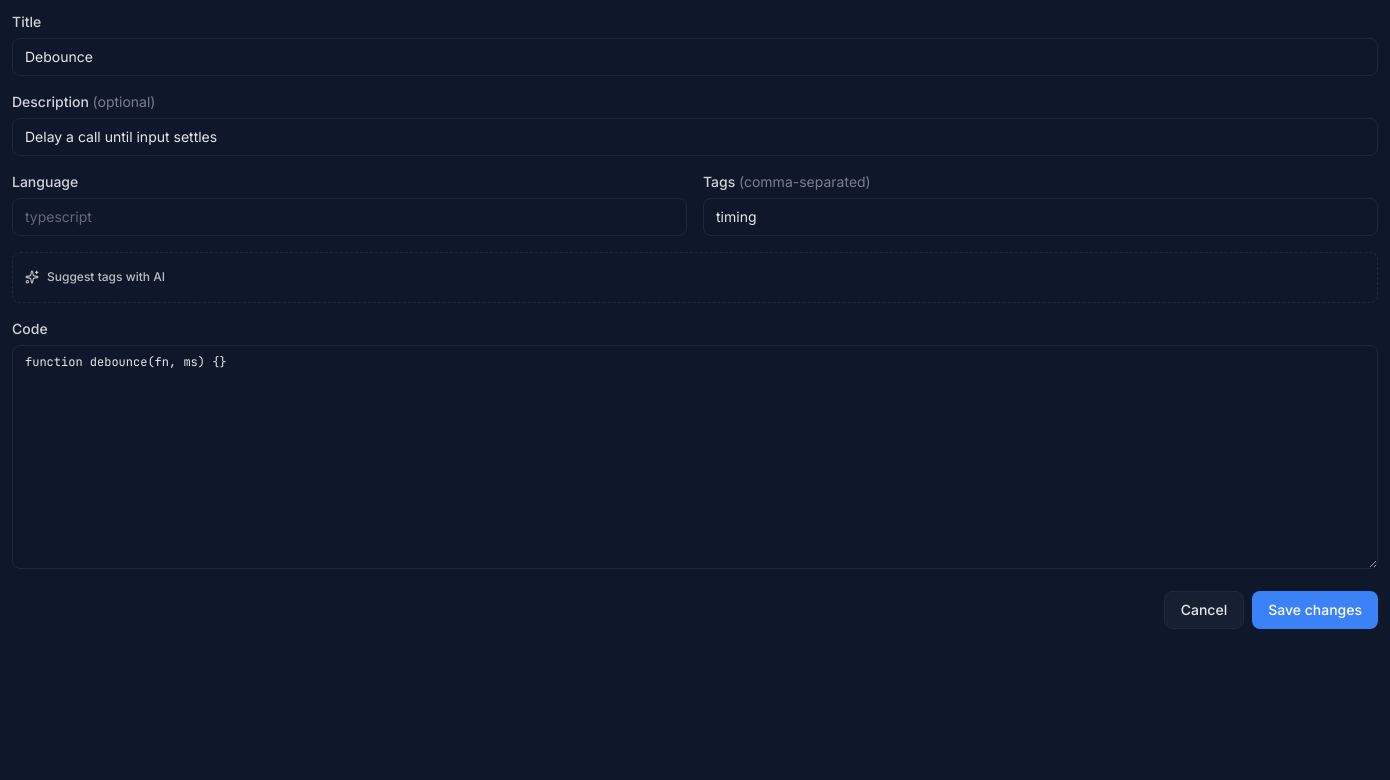
tag suggestions in the edit form › adds only the suggestions the user picks
Click the button "Suggest tags with AI" at [95, 277], box x1=17 y1=265 x2=173 y2=289
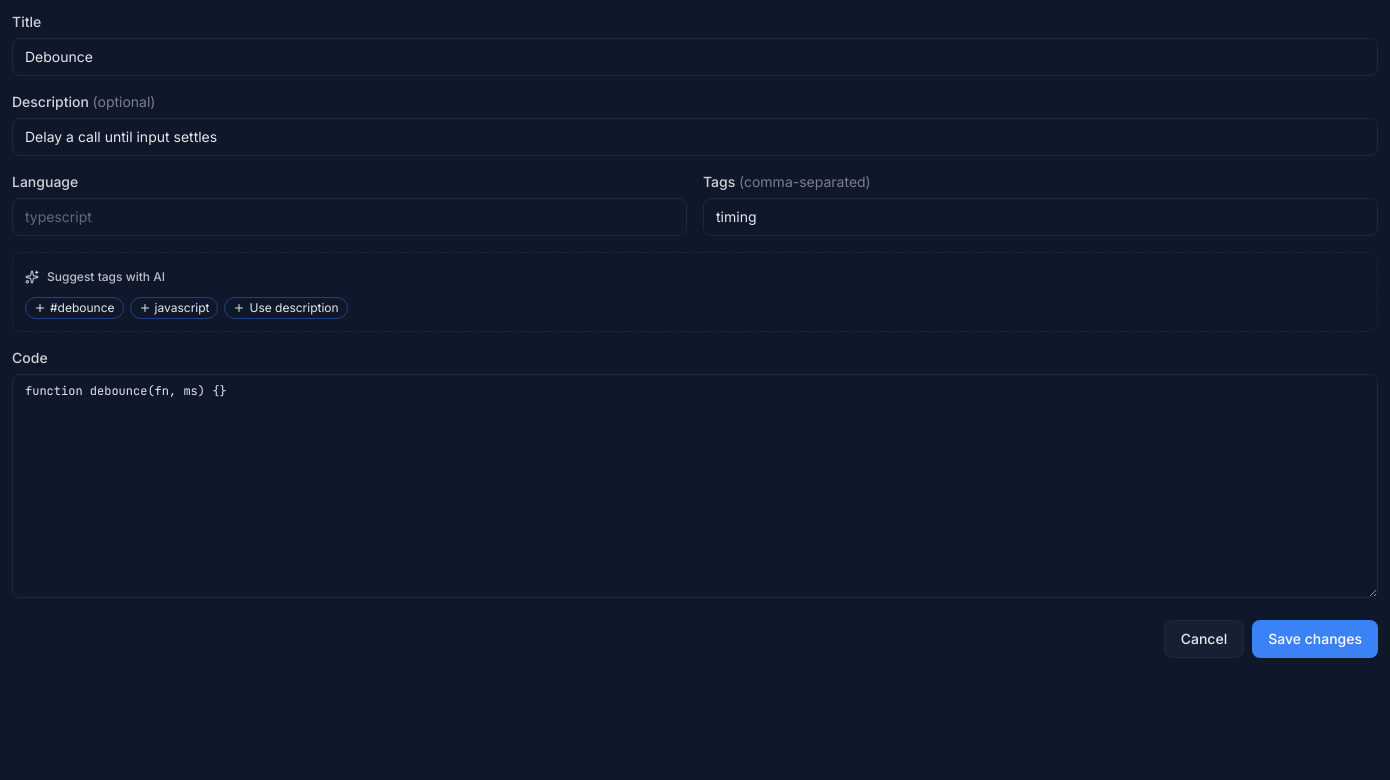
Now the button with aria-label "Add tag debounce" is shown
Click the button with aria-label "Add tag debounce" at [74, 308], box x1=25 y1=297 x2=124 y2=319
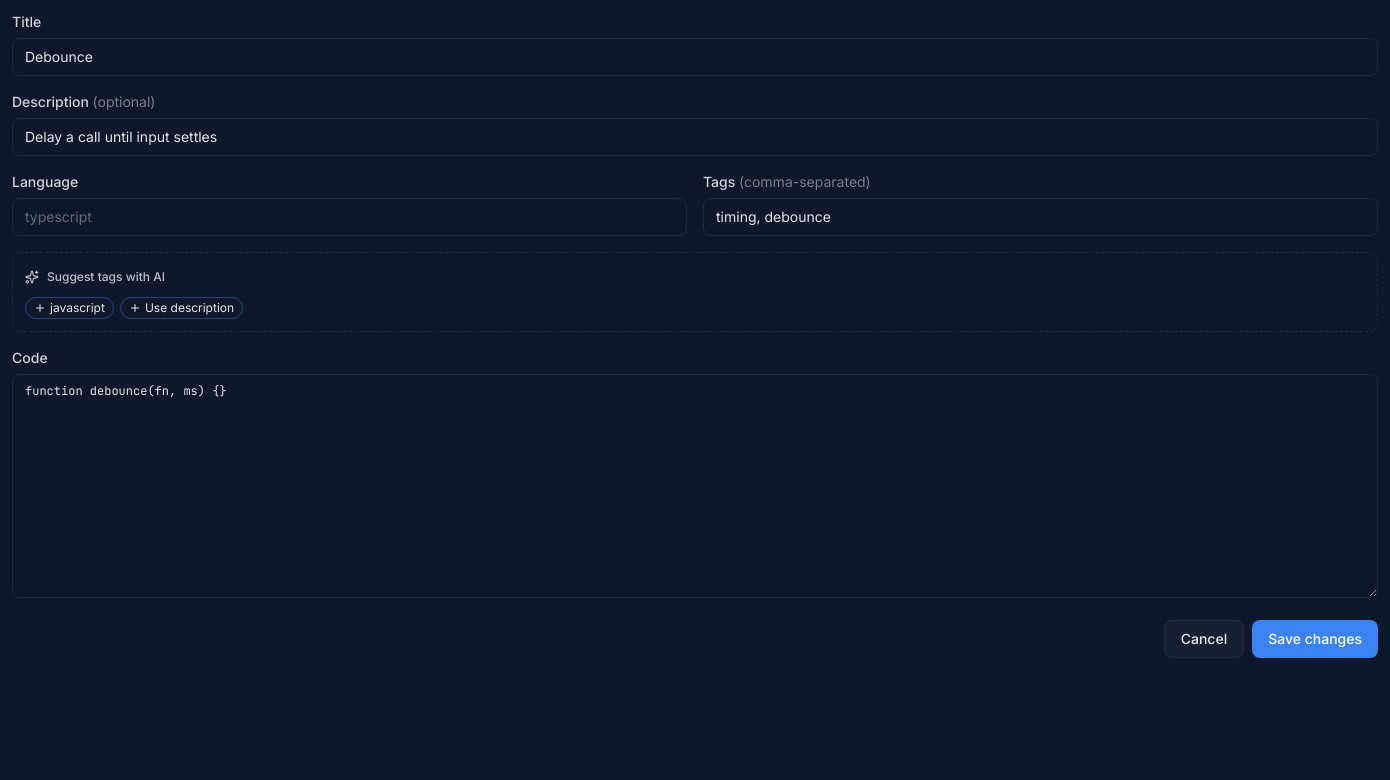
Click the button with aria-label "Use language javascript" at [69, 308], box x1=25 y1=297 x2=114 y2=319
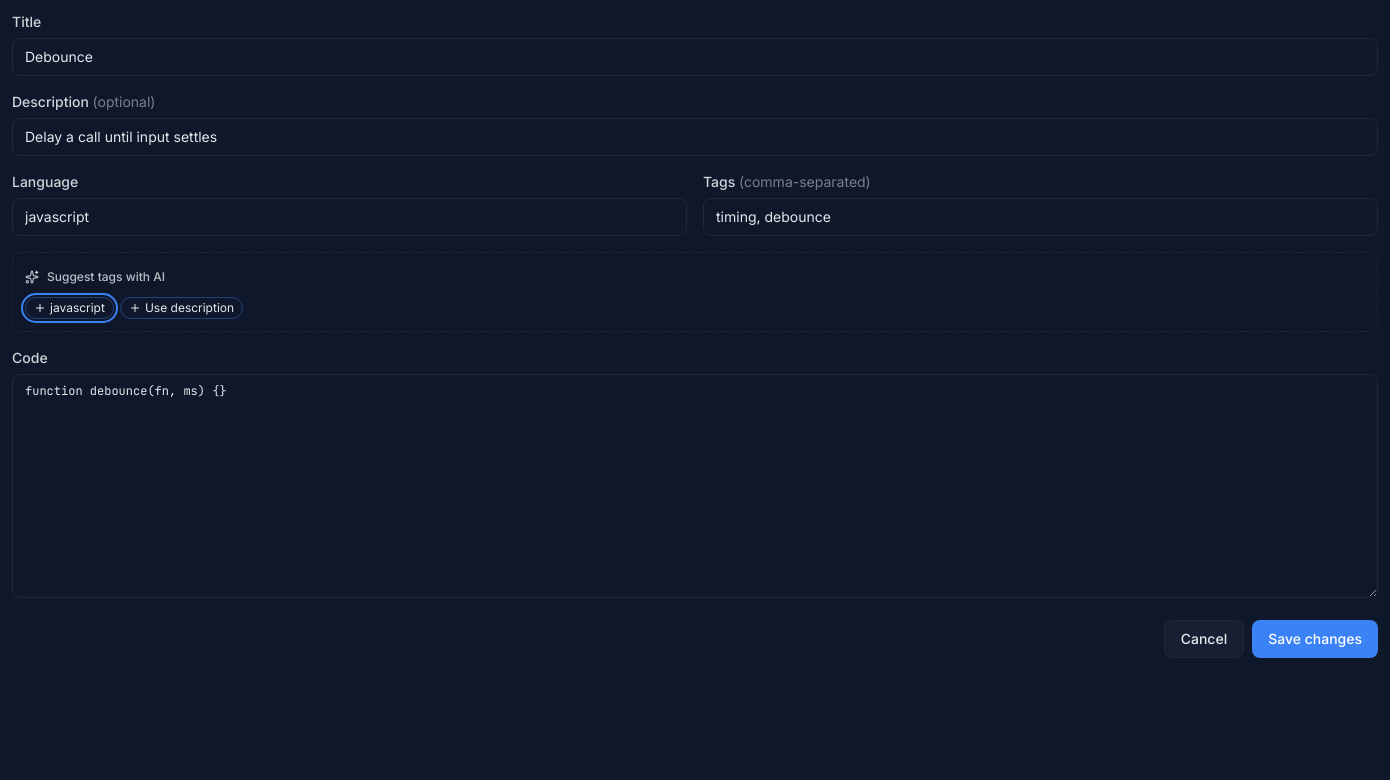
Now the field labelled "Tags (comma-separated)" holds "timing, debounce", box x1=703 y1=198 x2=1378 y2=236
Now the field labelled "Language" holds "javascript", box x1=12 y1=198 x2=687 y2=236
